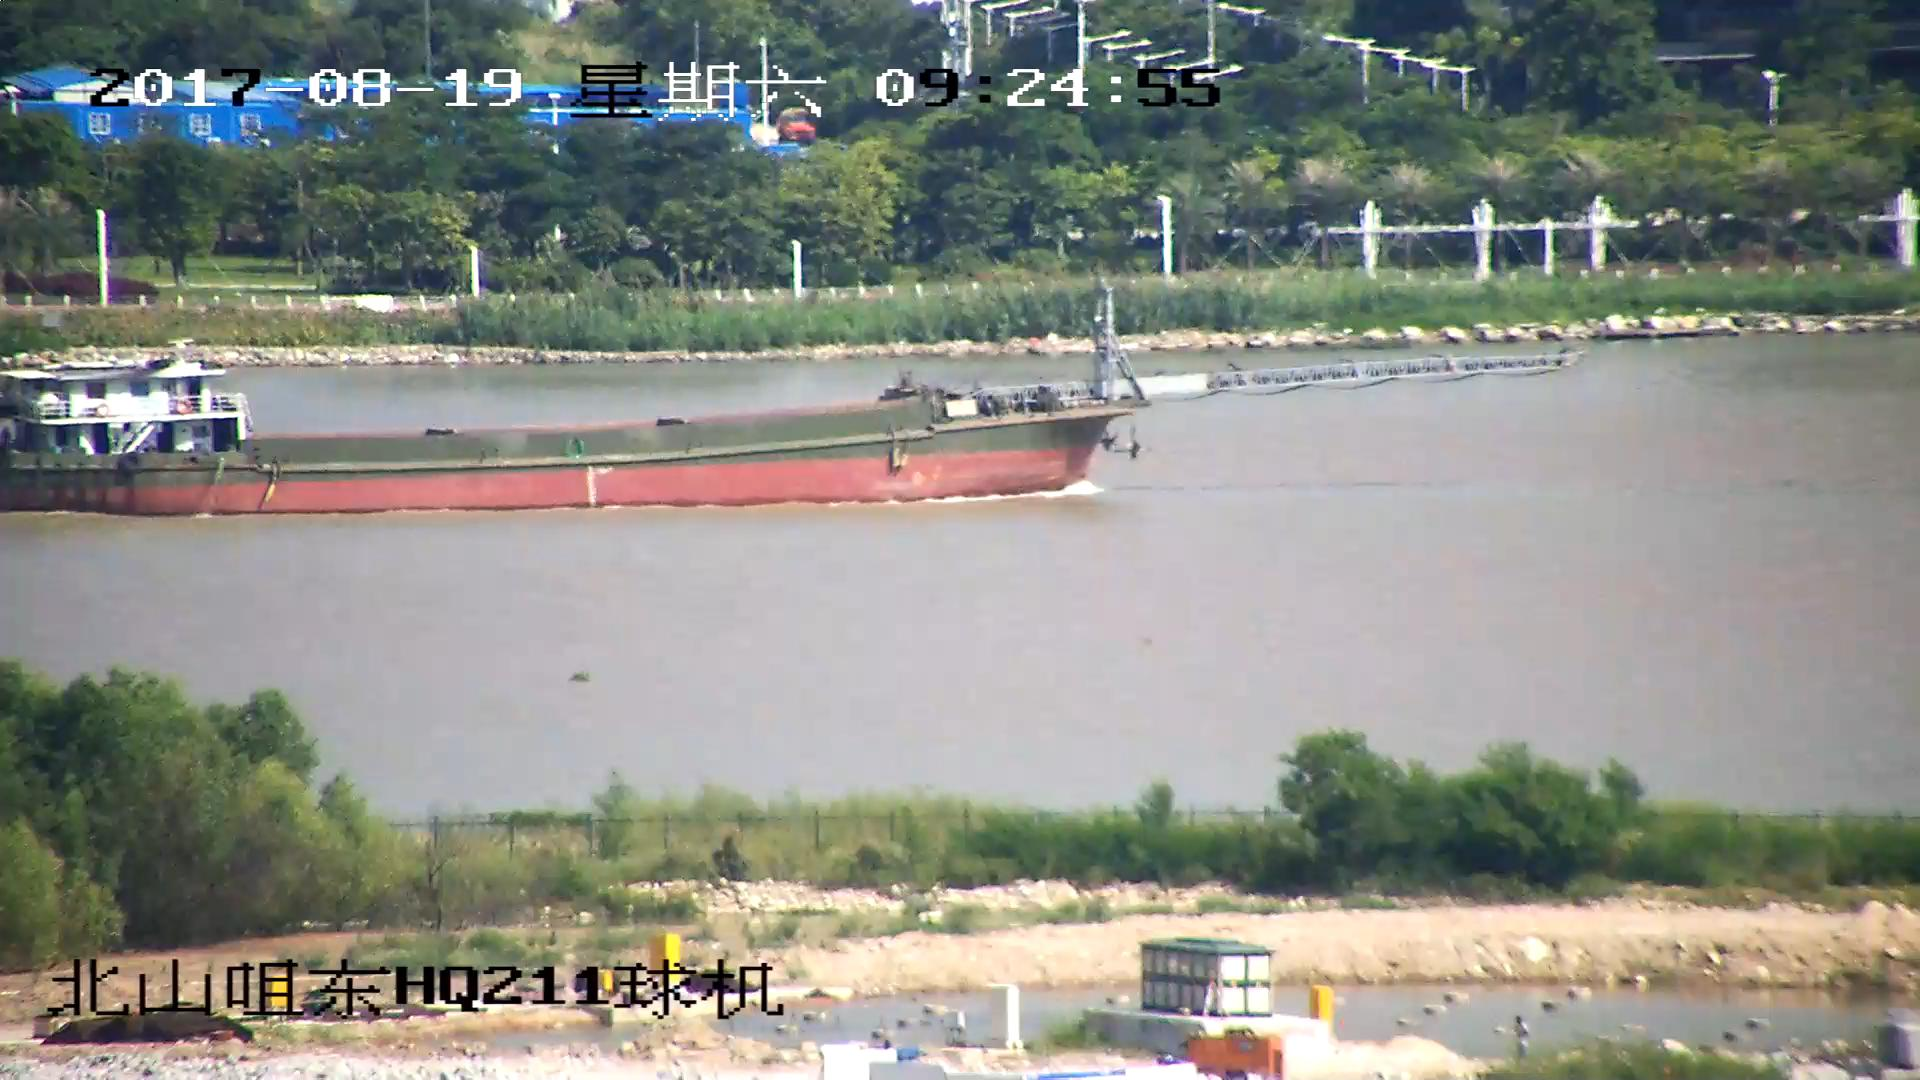bulk cargo carrier: (1, 271, 1558, 519)
